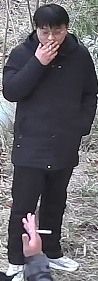smoking: (8, 4, 86, 89)
